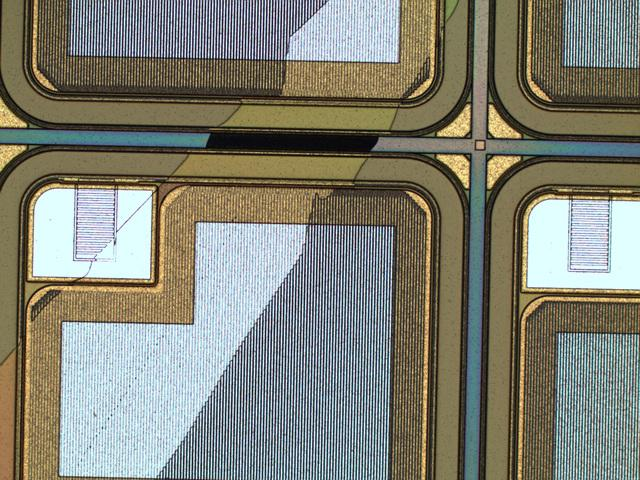COATING BAD: (1, 1, 466, 480)
